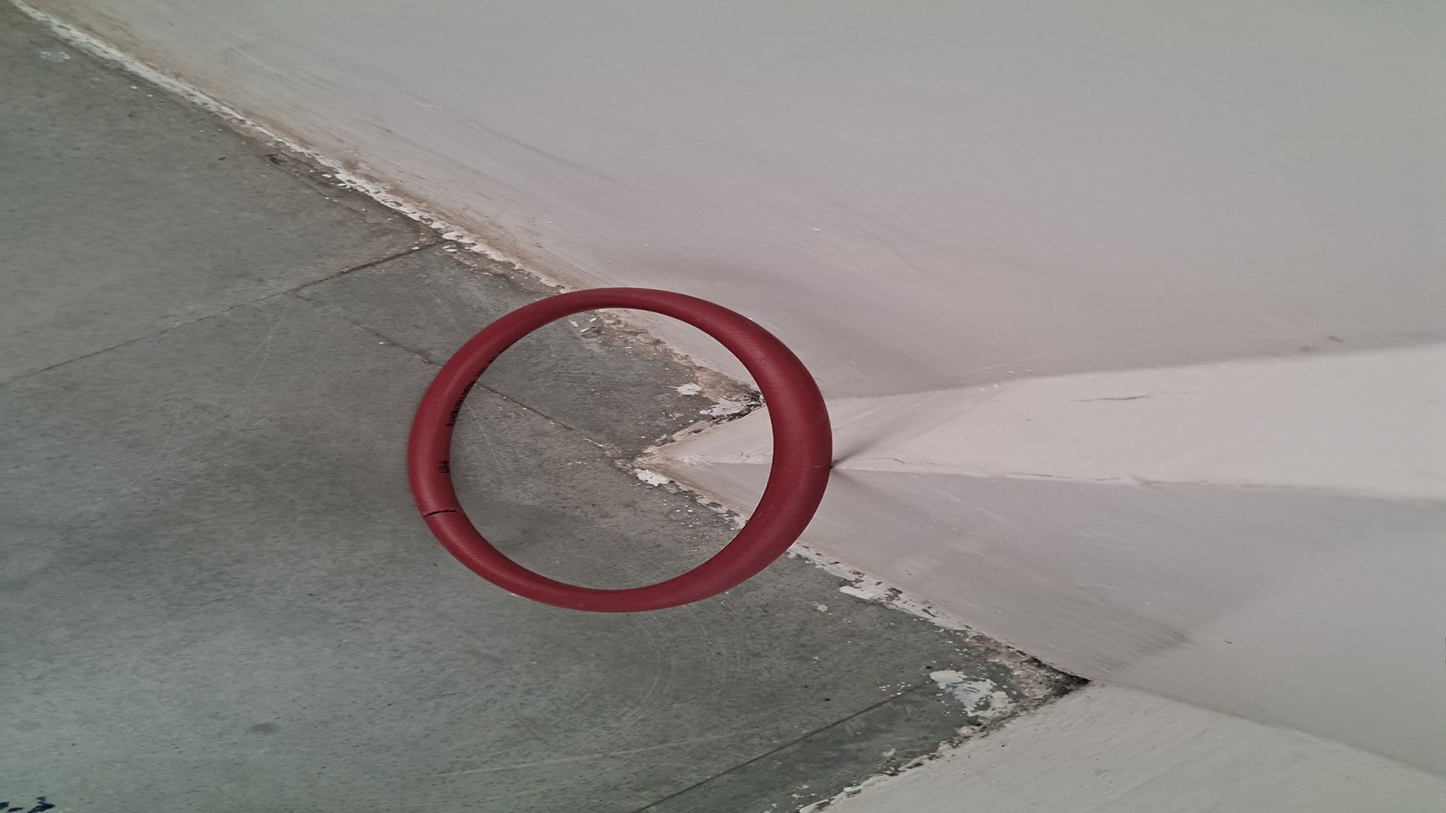Red ring: (412, 289, 834, 610)
